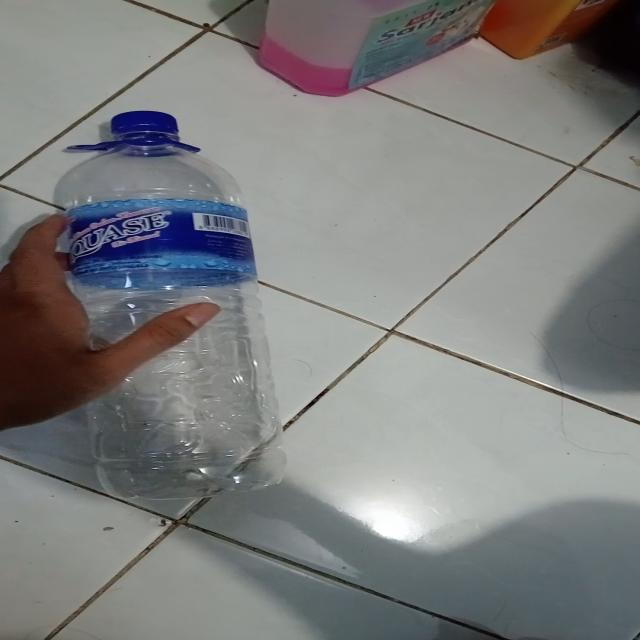Botol bekas: (51, 109, 288, 500)
